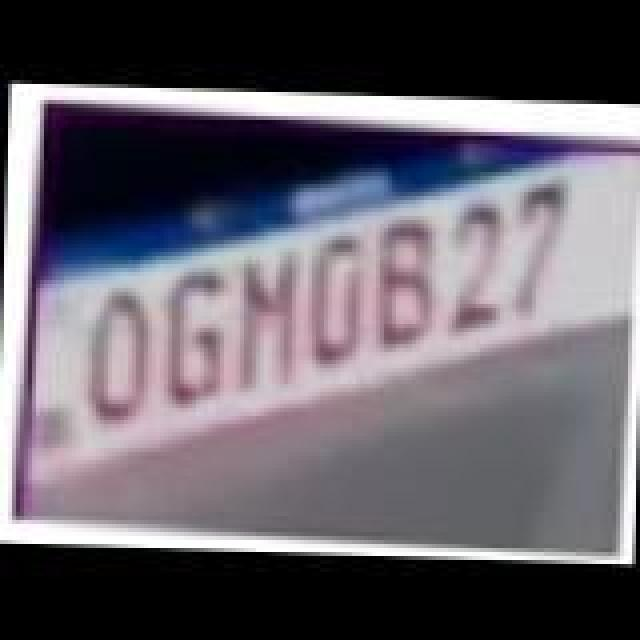2: (444, 196, 512, 336)
7: (506, 174, 570, 314)
B: (374, 216, 446, 352)
D: (300, 226, 372, 366)
G: (160, 262, 232, 410)
M: (230, 244, 306, 392)
O: (82, 280, 154, 424)
